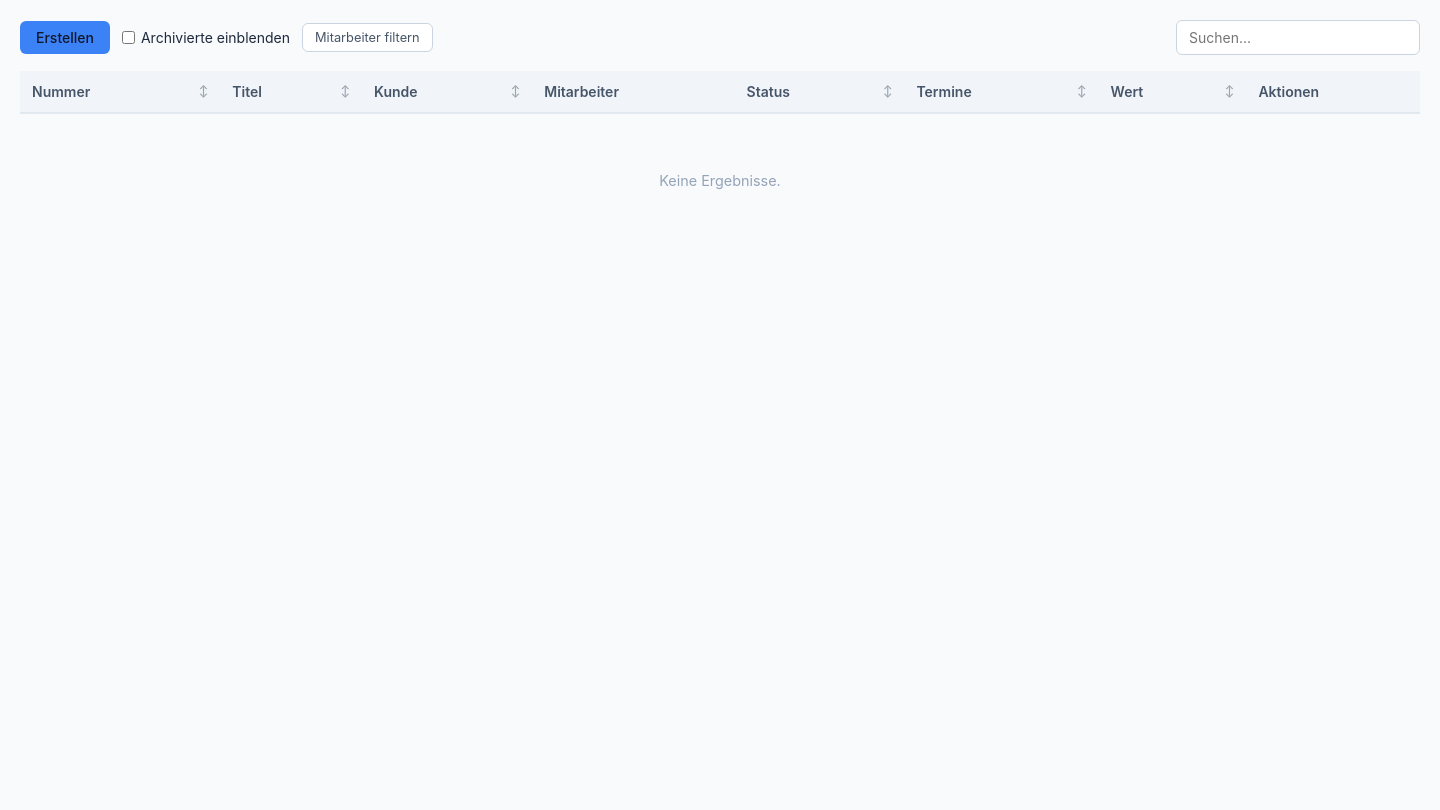
ProjectCreateForm — Baustelle visual auto-fill (toggle ON) › switching to a different customer updates the displayed address reactively
This screenshot has width=1440, height=810.
Click the button with test id "project-create-button" at (65, 38), box [20,21,110,54]
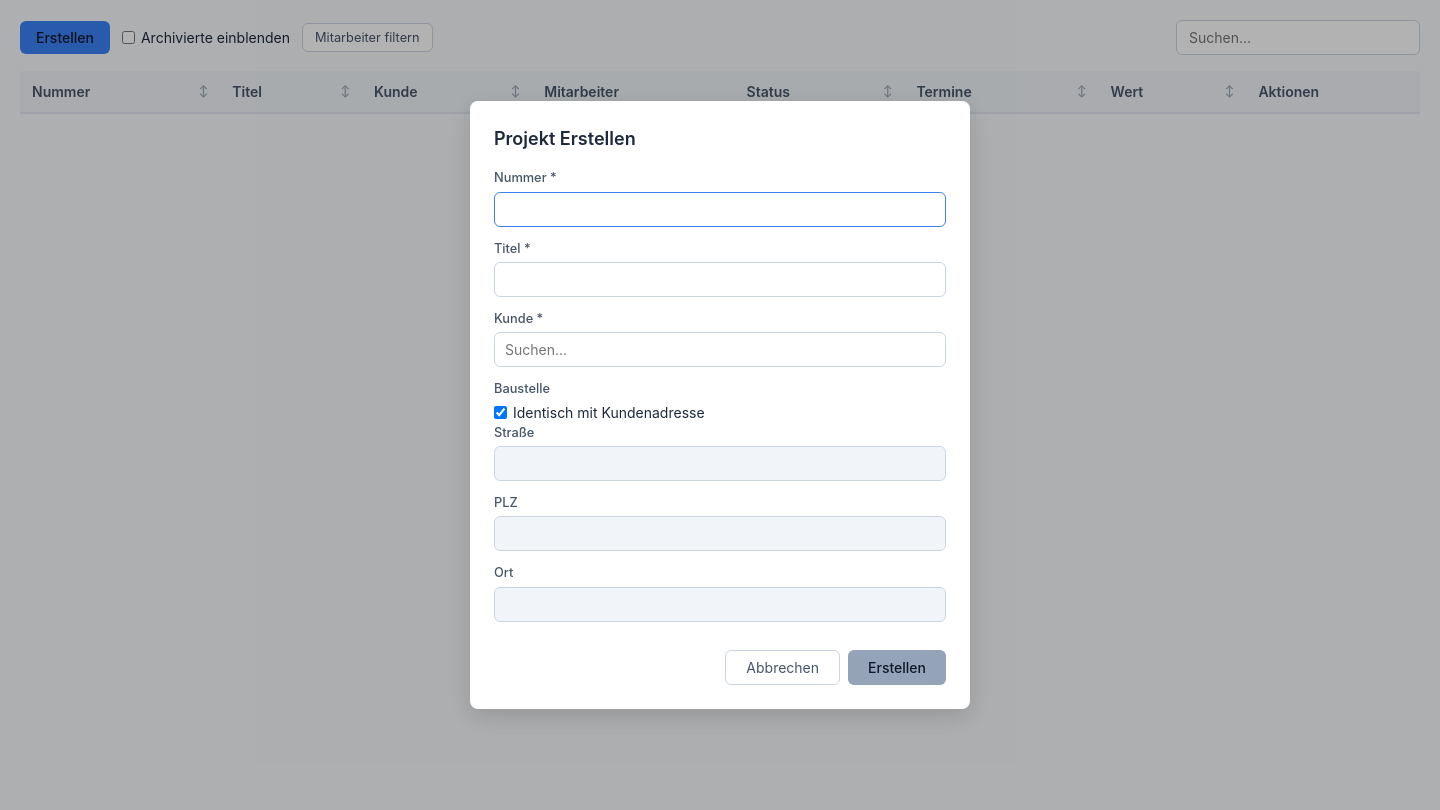
Click the field with placeholder "Suchen..." at (720, 349), box [494,332,946,367]
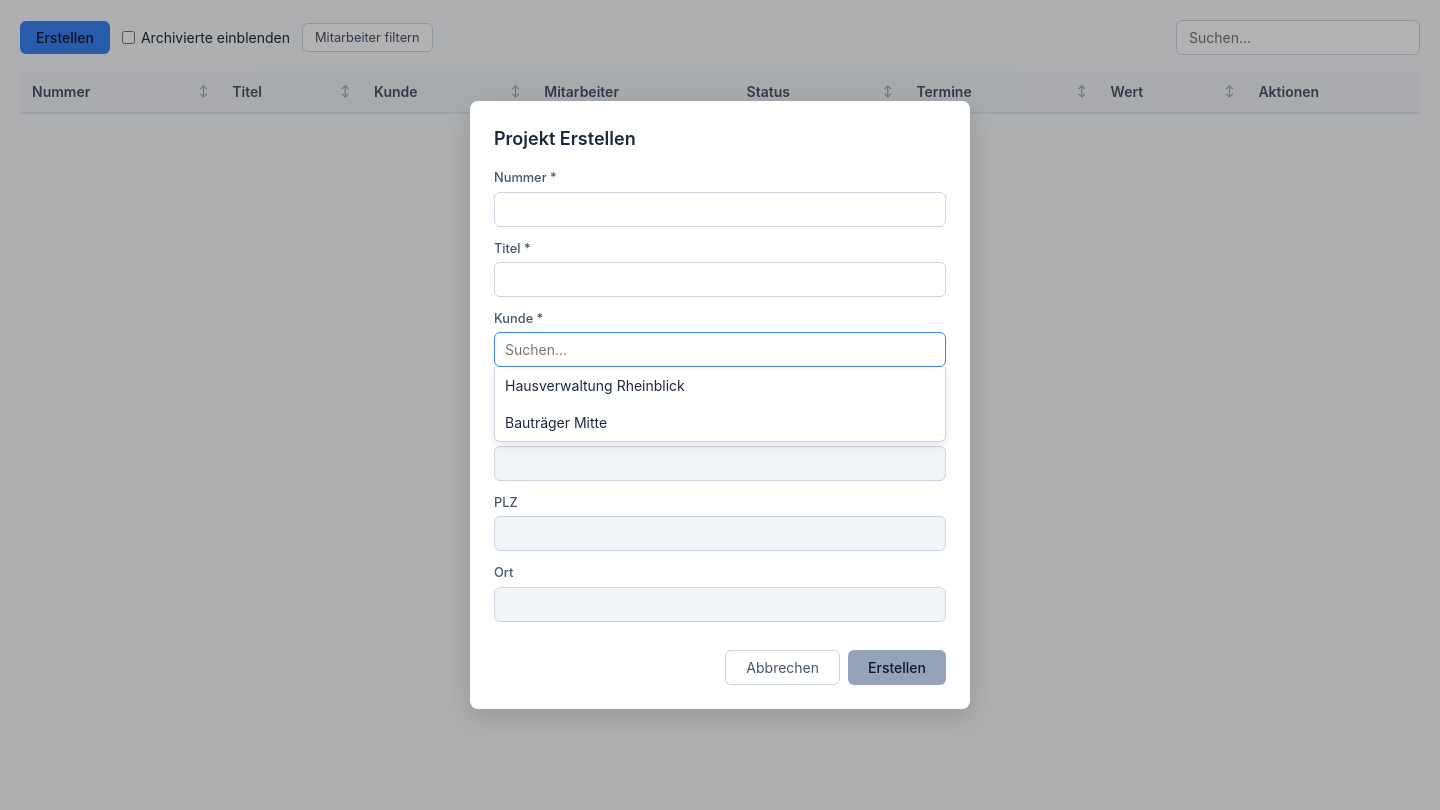
Click the text "Hausverwaltung Rheinblick" at (595, 385), box [505,377,685,394]
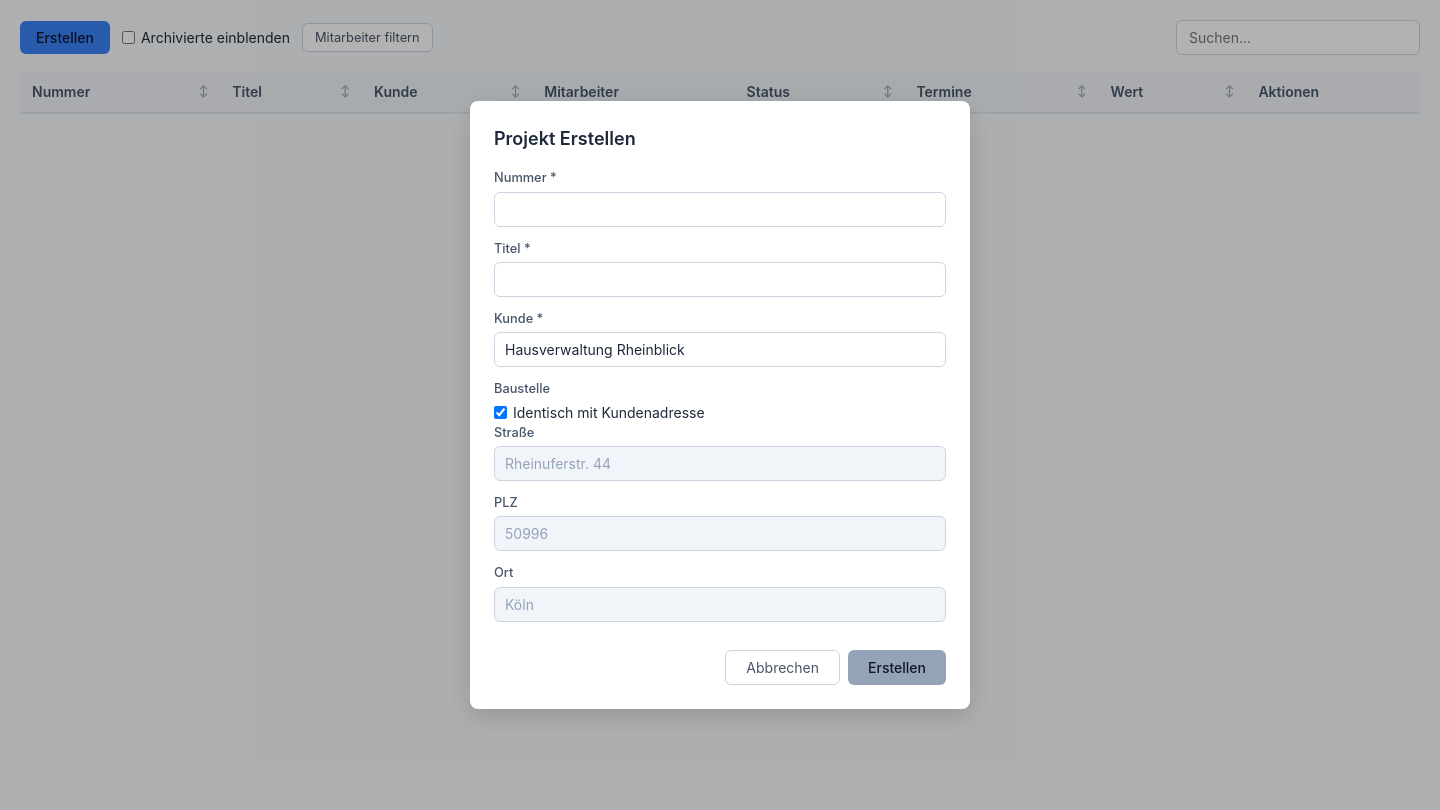
Expected: the field with test id "project-site-street-input" holds "Rheinuferstr. 44", [494,446,946,481]
Click the 3rd field at (720, 349), box [494,332,946,367]
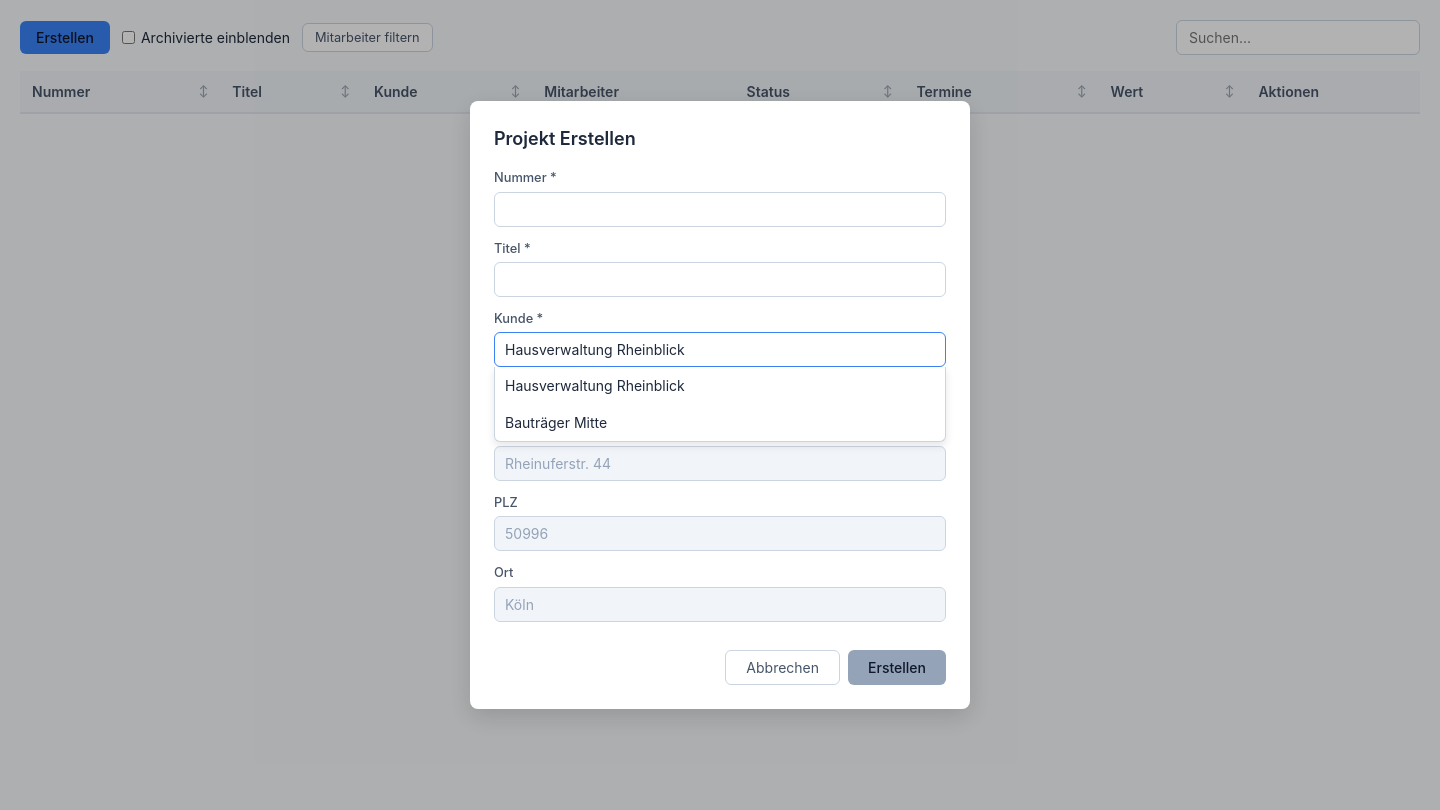
Click the text "Bauträger Mitte" at (556, 422), box [505,414,607,431]
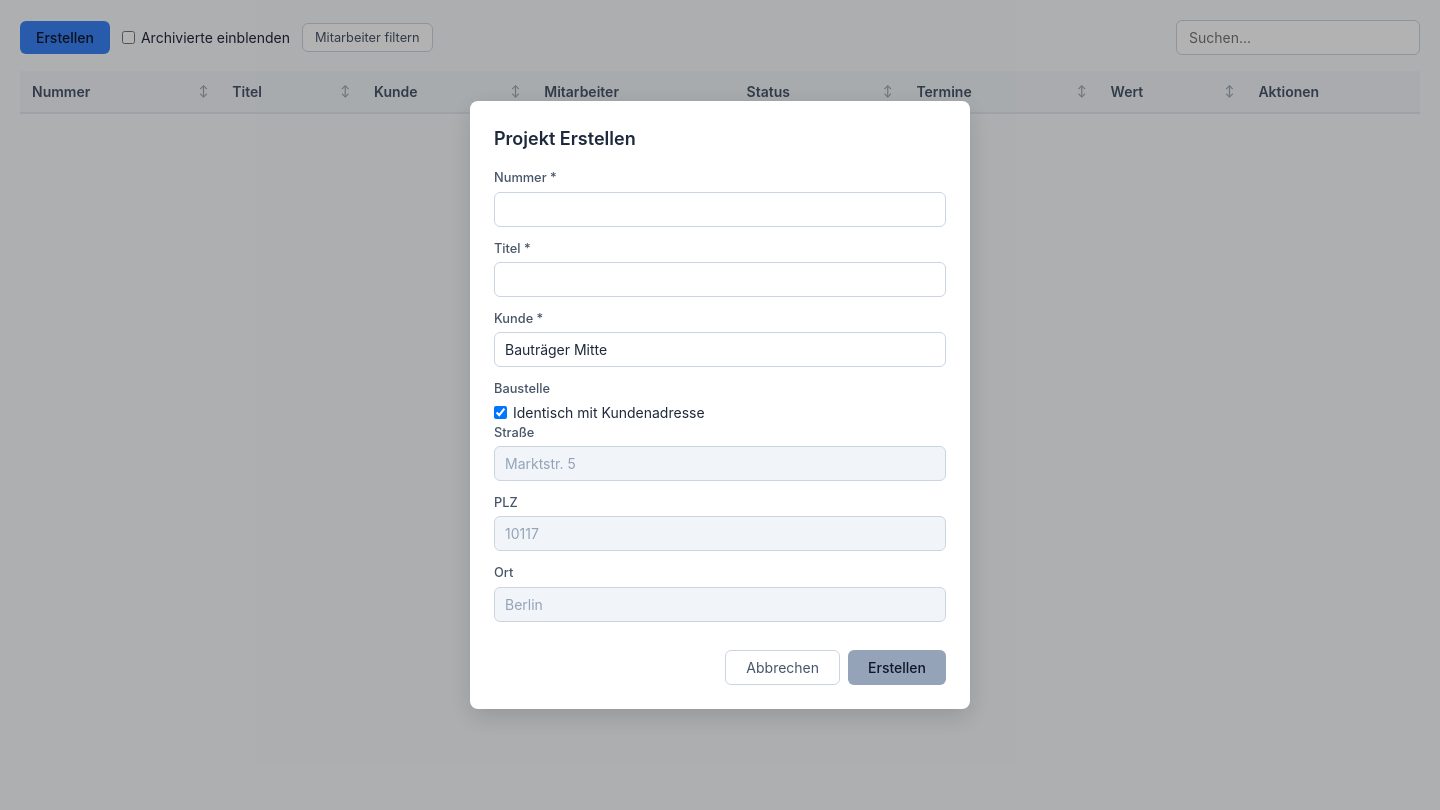
Expected: the field with test id "project-site-street-input" holds "Marktstr. 5", [494,446,946,481]
Expected: the field with test id "project-site-zip-input" holds "10117", [494,516,946,552]
Expected: the field with test id "project-site-city-input" holds "Berlin", [494,587,946,622]
